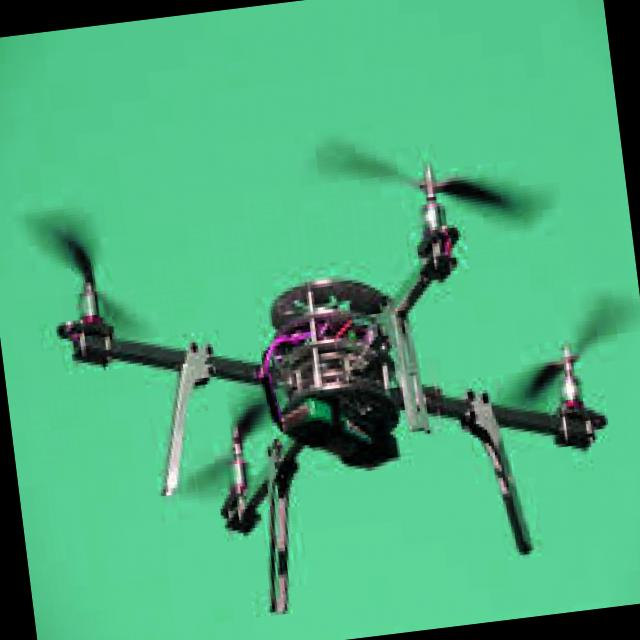drone: (17, 127, 640, 640)
